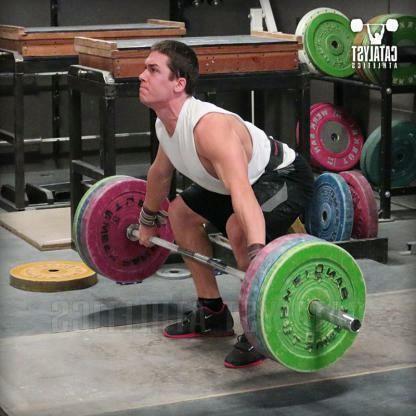Barbell: (345, 315, 362, 335)
